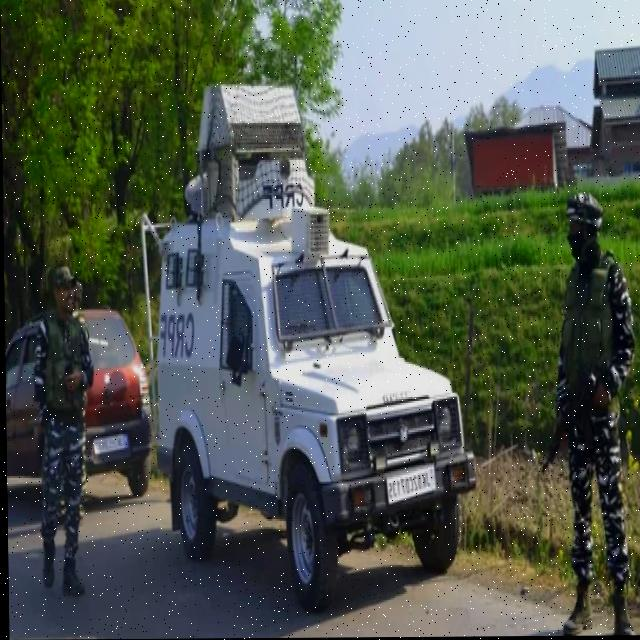plate: (384, 459, 439, 510), (89, 429, 130, 458)
